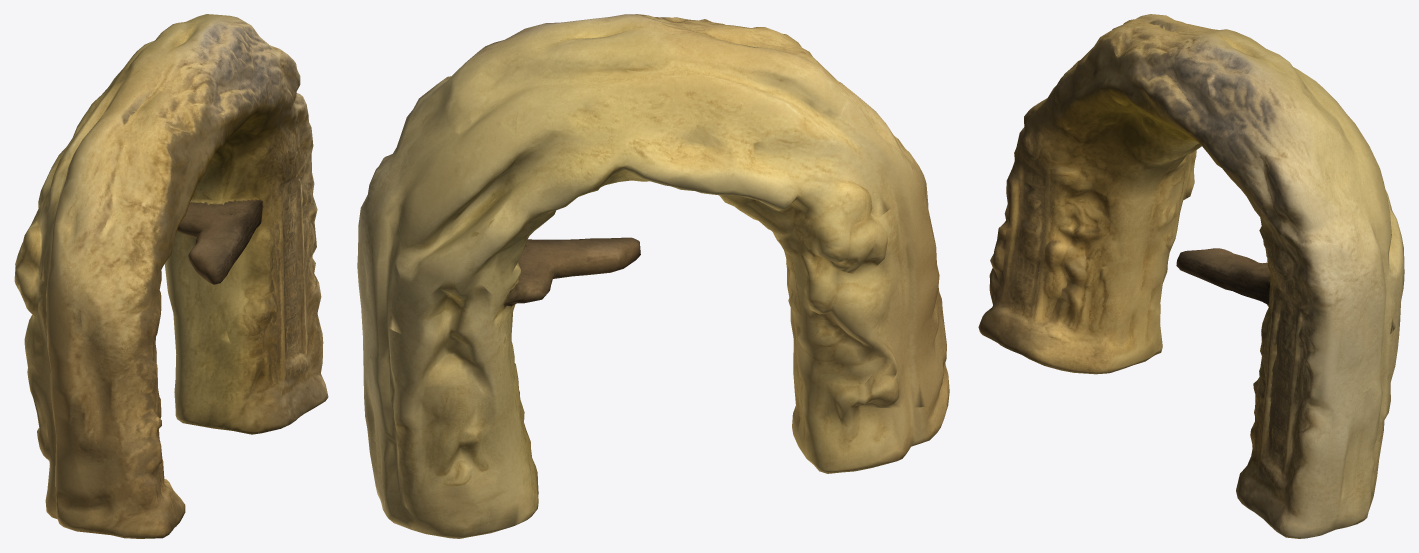
The model's file is arch.glb.
3 views of the same model, side by side, from view 1: azimuth 30°, elevation 25°; view 2: azimuth 150°, elevation 25°; view 3: azimuth 270°, elevation 25° (orthographic). The views are drawn at different scales.
Visible parts, largest first — view 1: low; view 2: low; view 3: low.
Boxes of the visible parts, x1=… form: low: x1=14, y1=14, x2=328, y2=538; low: x1=357, y1=14, x2=949, y2=538; low: x1=978, y1=14, x2=1404, y2=538.
Bounding box in the file's own units: 15.78 × 17 × 15.59.
1 material, 1 textured.
